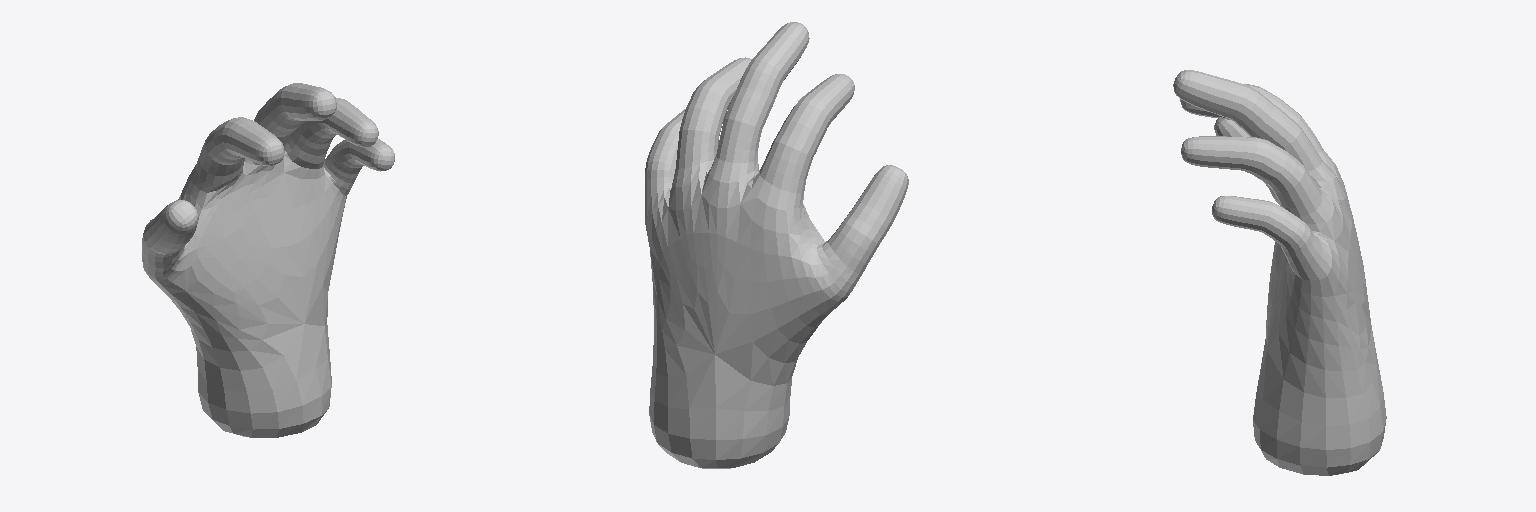
The model's file is handanimatsion20.obj.
3 views of the same model, side by side, from view 1: azimuth 30°, elevation 25°; view 2: azimuth 150°, elevation 25°; view 3: azimuth 270°, elevation 25° (orthographic).
Parts seen in each view (by area): view 1: Cube; view 2: Cube; view 3: Cube.
Part boxes in pixels (bbox=[...]): Cube: bbox=[142, 83, 394, 437]; Cube: bbox=[645, 22, 908, 468]; Cube: bbox=[1173, 70, 1386, 475].
Size of the model in its own units: 3.5 by 5.65 by 2.82.